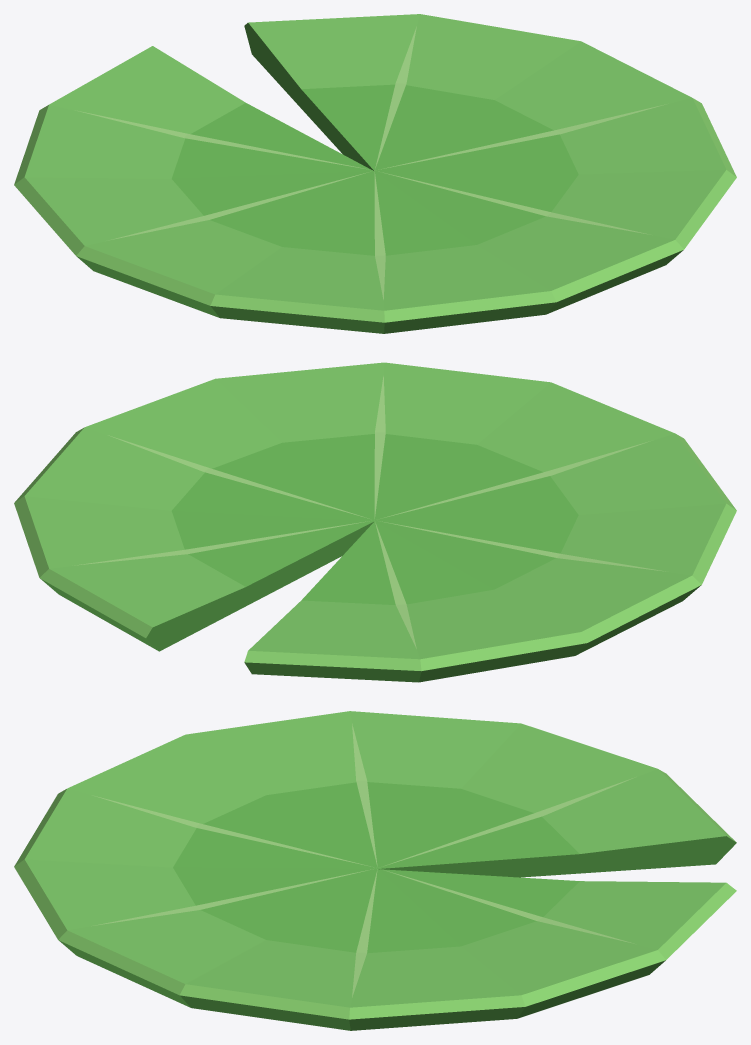
The model's file is lily-pad.glb.
3 renders of one model, top to bottom at view 1: azimuth 30°, elevation 25°; view 2: azimuth 150°, elevation 25°; view 3: azimuth 270°, elevation 25°, orthographic.
Visible parts, largest first — view 1: lily-pad; view 2: lily-pad; view 3: lily-pad.
Part boxes in pixels (bbox=[...]): lily-pad: bbox=[14, 14, 736, 333]; lily-pad: bbox=[14, 362, 736, 682]; lily-pad: bbox=[14, 711, 736, 1030].
Size of the model in its own units: 9 by 0.38 by 9.
